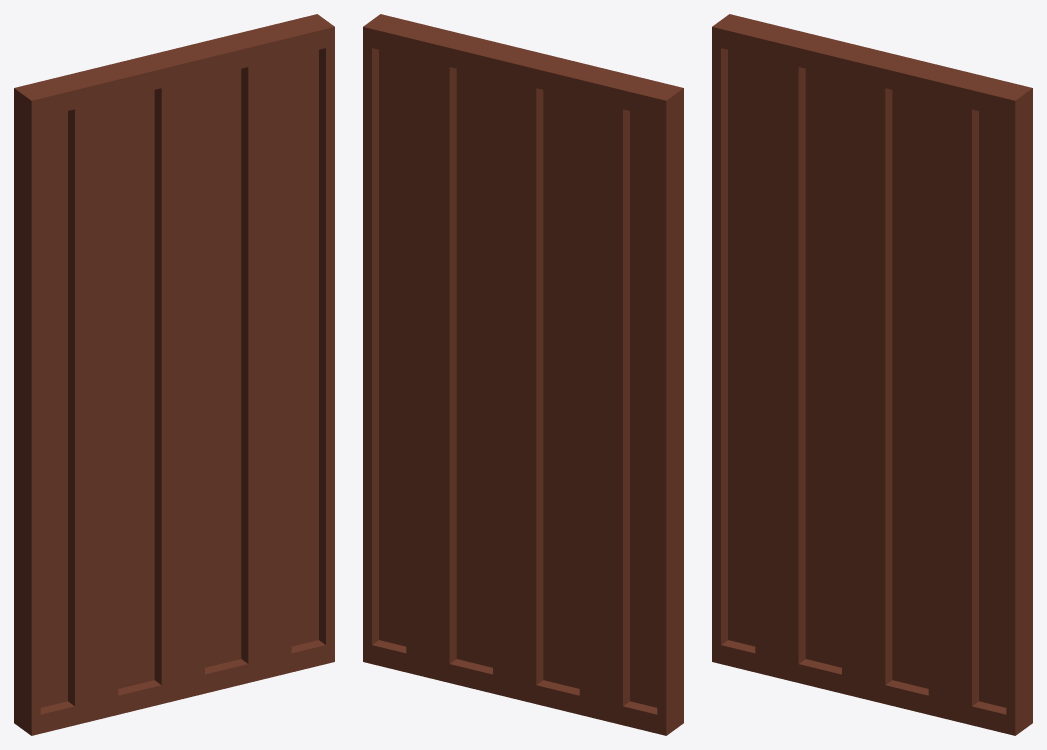
The model's file is Short Tall Fence.fbx.
3 renders of one model, left to right at view 1: azimuth 30°, elevation 25°; view 2: azimuth 150°, elevation 25°; view 3: azimuth 330°, elevation 25°, orthographic.
Parts seen in each view (by area): view 1: Short Tall Fence; view 2: Short Tall Fence; view 3: Short Tall Fence.
Boxes of the visible parts, <box> form: Short Tall Fence: <box>14,14,334,735</box>; Short Tall Fence: <box>363,14,683,735</box>; Short Tall Fence: <box>712,14,1032,735</box>.
Bounding box in the file's own units: 100 × 200 × 10.
